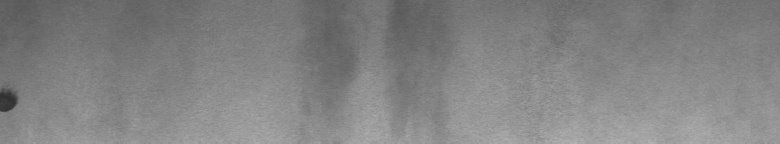fi: (4, 80, 24, 120)
